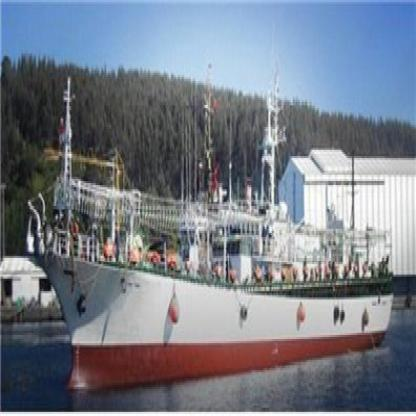Ship: (41, 20, 405, 405)
